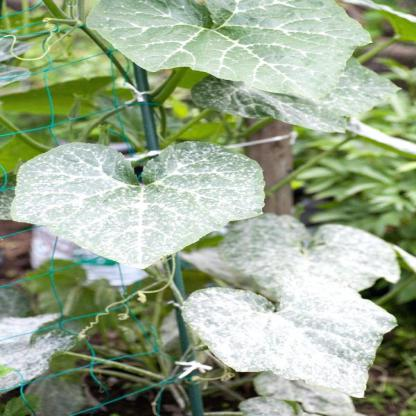Squash Powdery mildew leaf: (1, 126, 265, 264), (181, 278, 397, 408), (81, 0, 357, 85), (218, 211, 415, 309)
